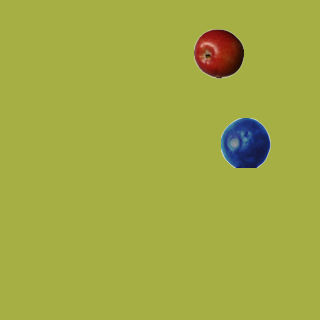Apple Braeburn: (193, 28, 243, 78)
Huckleberry: (220, 117, 270, 167)
